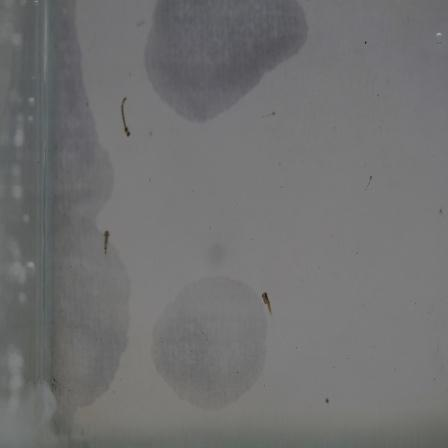Jentik-Nyamuk: (114, 91, 137, 141), (259, 290, 277, 319), (99, 228, 114, 259)
